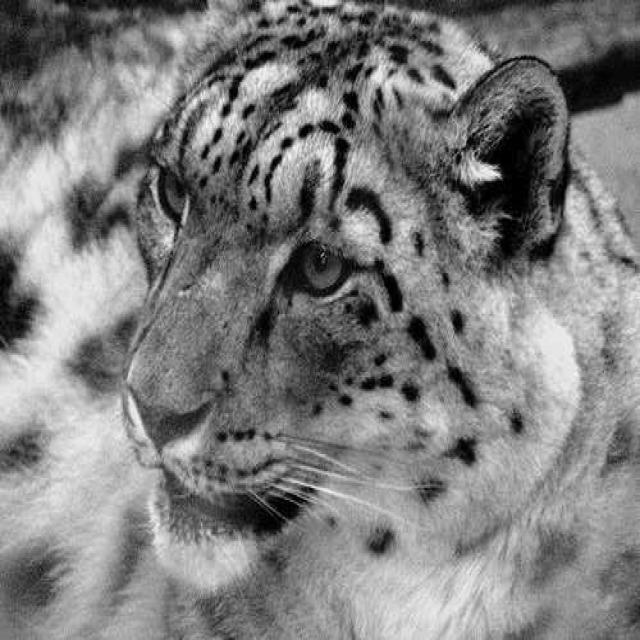Leopard: (79, 34, 522, 600)
